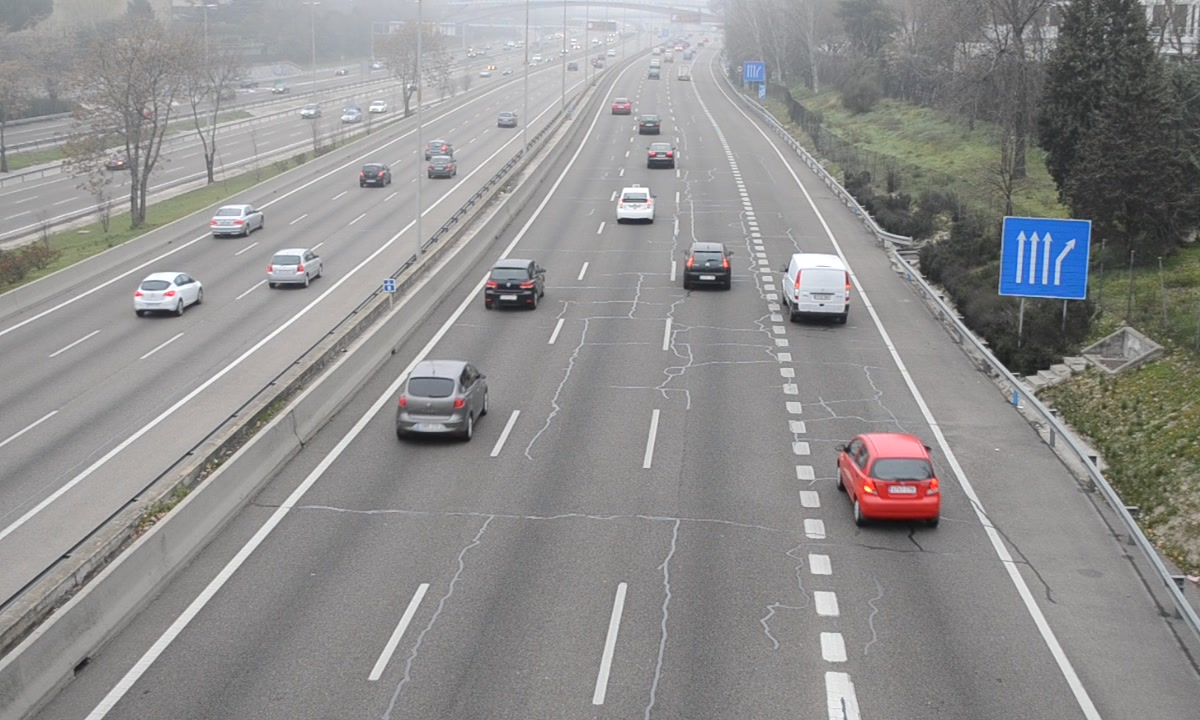car: (838, 432, 941, 523), (397, 362, 489, 437), (483, 259, 543, 308), (684, 241, 731, 287), (616, 185, 655, 223), (647, 141, 676, 170)
van: (788, 253, 851, 321)
